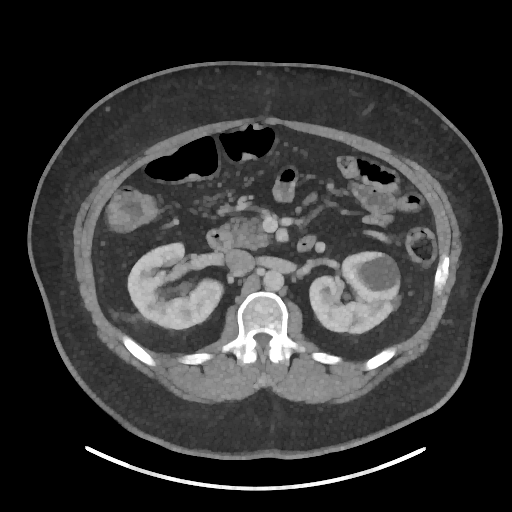Lesion: (355, 253, 405, 295)
